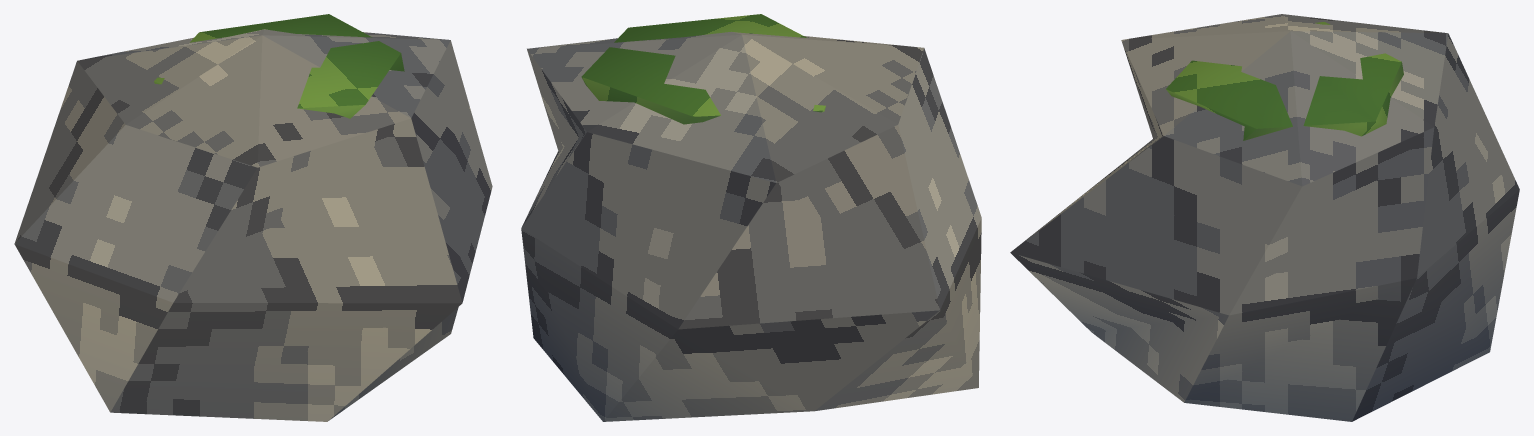
Rendered from mnat.rock.glb.
3 views of the same model, side by side, from view 1: azimuth 30°, elevation 25°; view 2: azimuth 150°, elevation 25°; view 3: azimuth 270°, elevation 25° (orthographic). The views are drawn at different scales.
Parts seen in each view (by area): view 1: kit_rock, kit_moss; view 2: kit_rock, kit_moss; view 3: kit_rock, kit_moss.
Boxes of the visible parts, <box> form: kit_rock: <box>14,29,492,421</box>; kit_moss: <box>154,14,404,118</box>; kit_rock: <box>521,31,981,421</box>; kit_moss: <box>581,14,825,124</box>; kit_rock: <box>1010,14,1519,421</box>; kit_moss: <box>1166,22,1403,140</box>.
Bounding box in the file's own units: 1.37 × 1.1 × 1.41.
2 materials, 2 textured.
